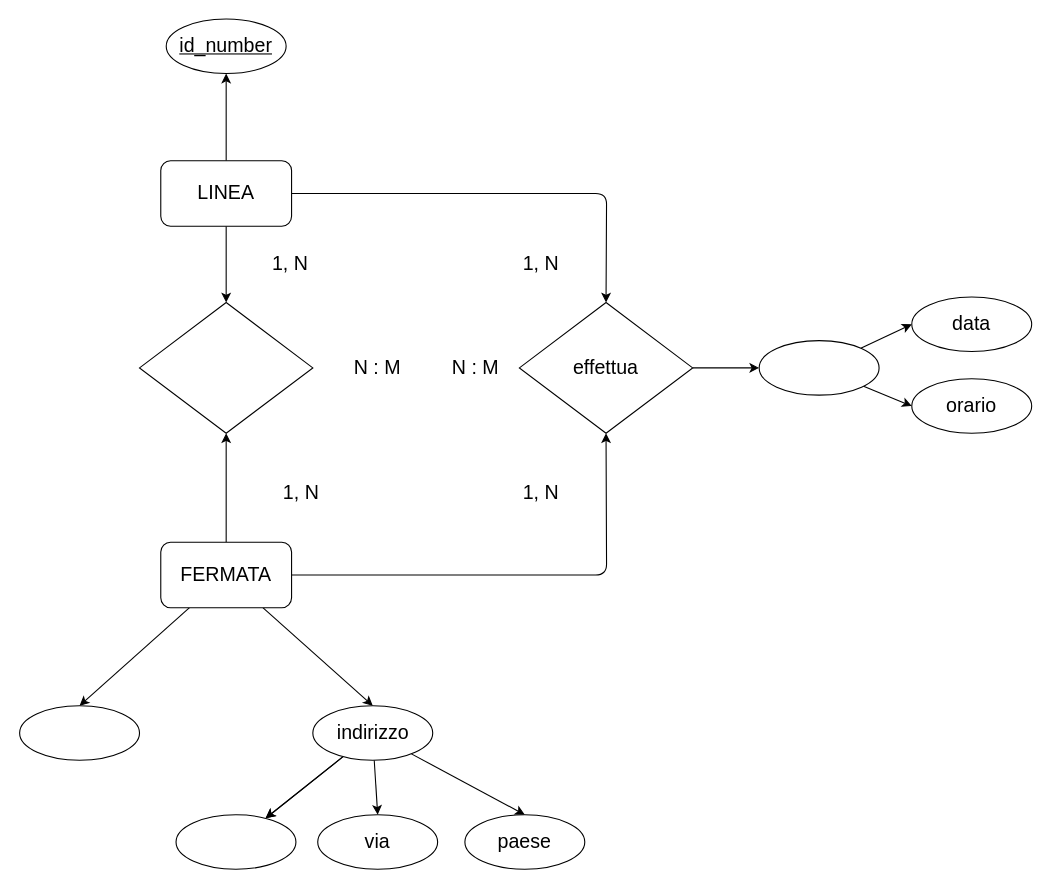
This 1051x888 diagram has some shape labels left out. The shapes that lost their labels are listed below. From the top down, each one's box as (x1, y1, x2, y2) in pixels, then its label:
(138, 301, 313, 433): composta_da
(758, 340, 879, 395): passaggi
(19, 705, 140, 760): nome
(175, 814, 296, 869): cap
